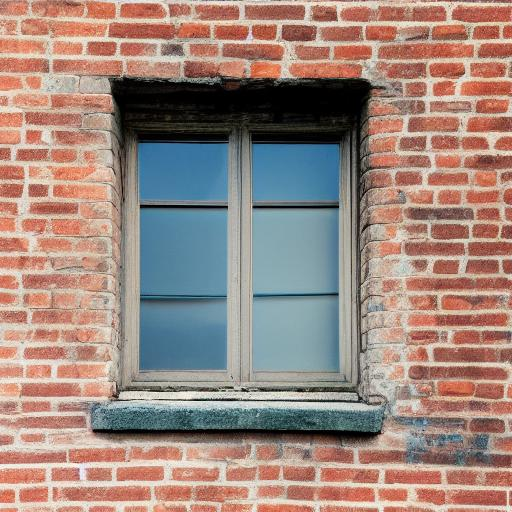Window: (91, 75, 388, 433)
